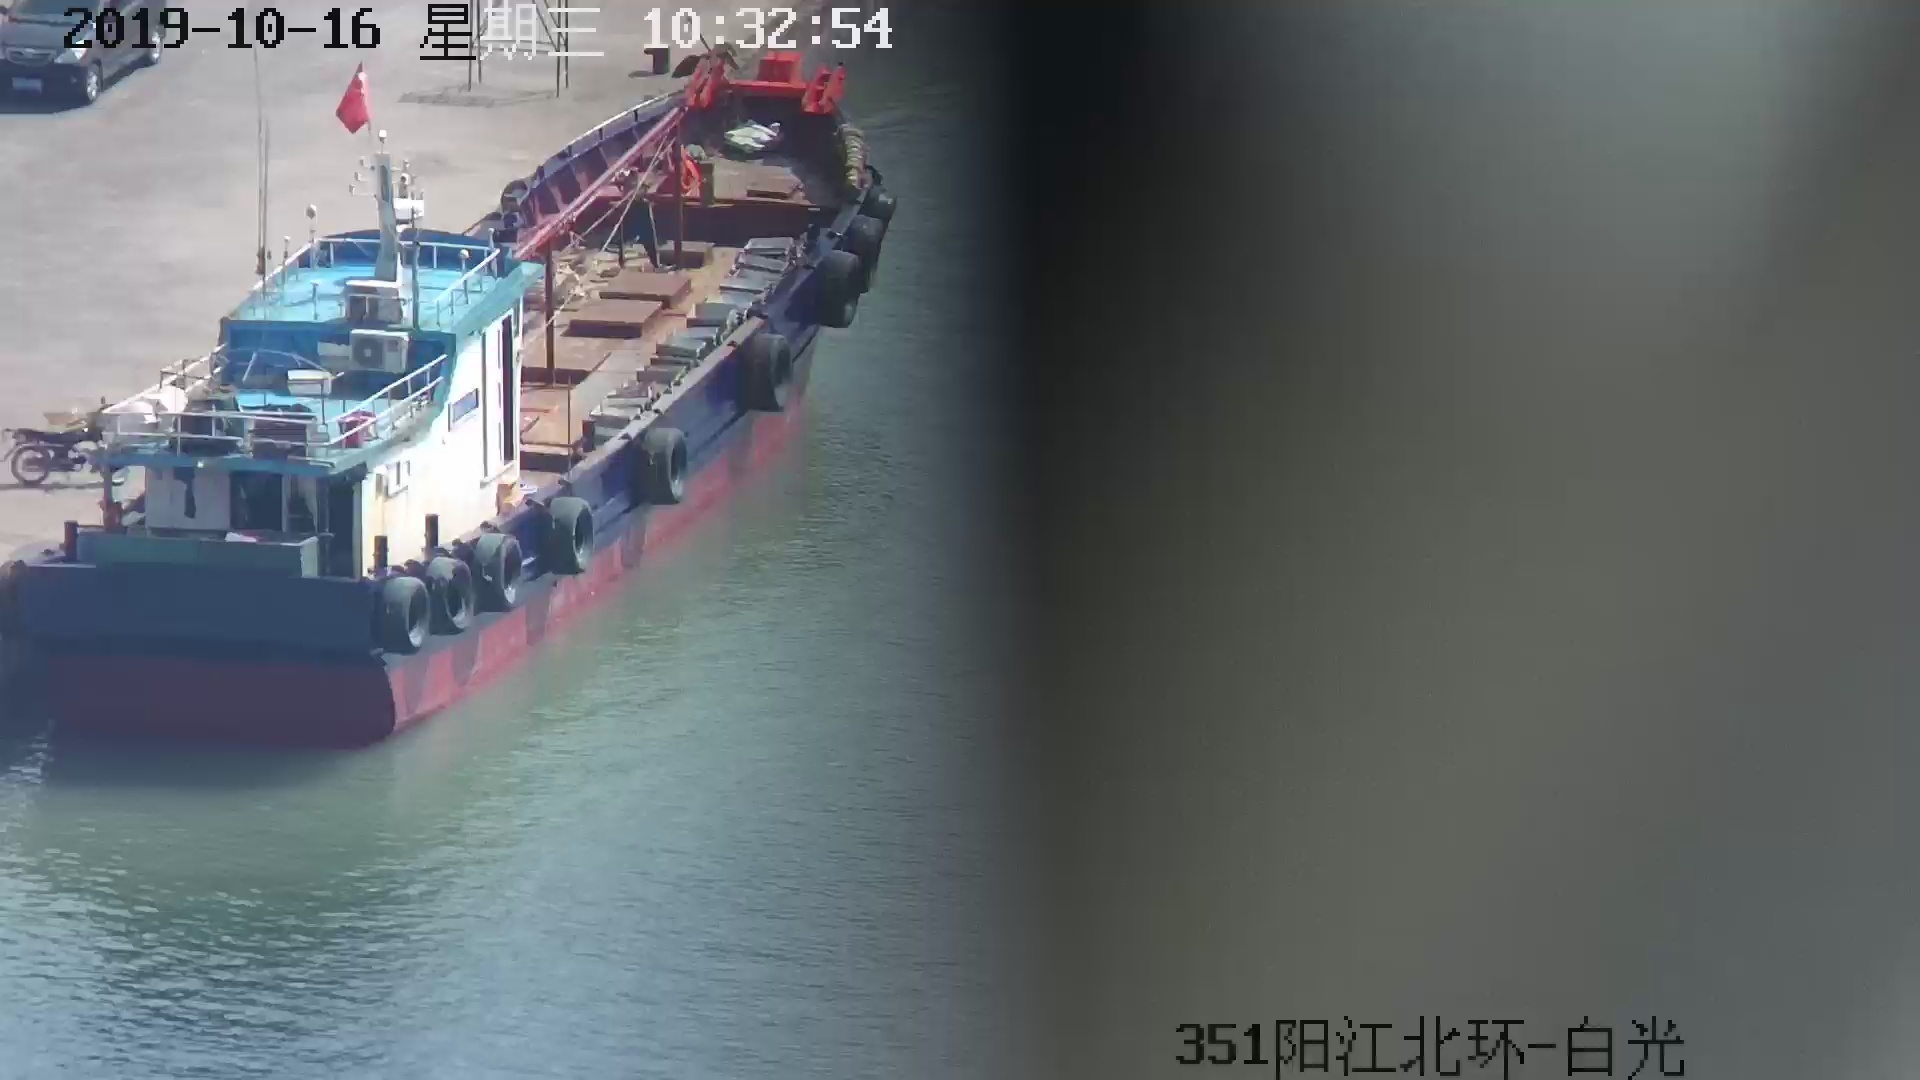ship: (11, 36, 891, 740)
